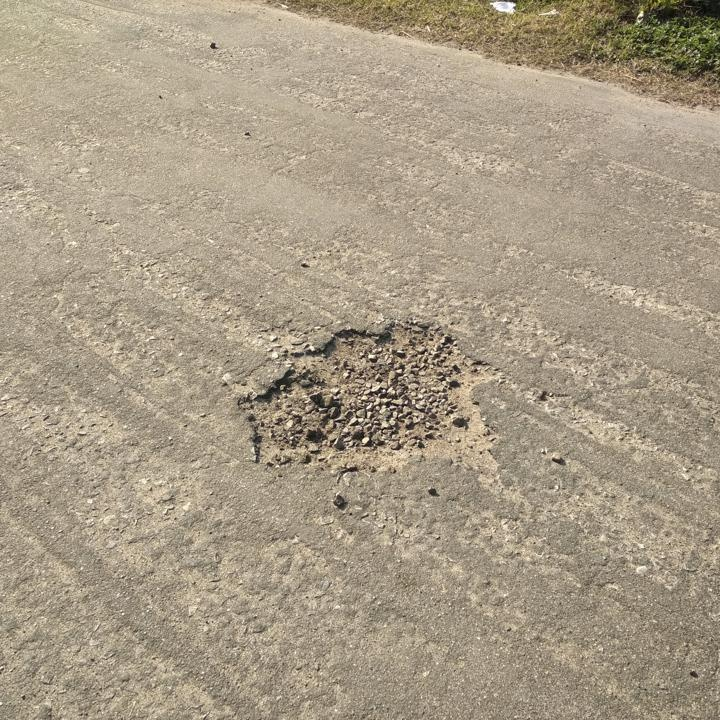pothole: (232, 316, 506, 474)
